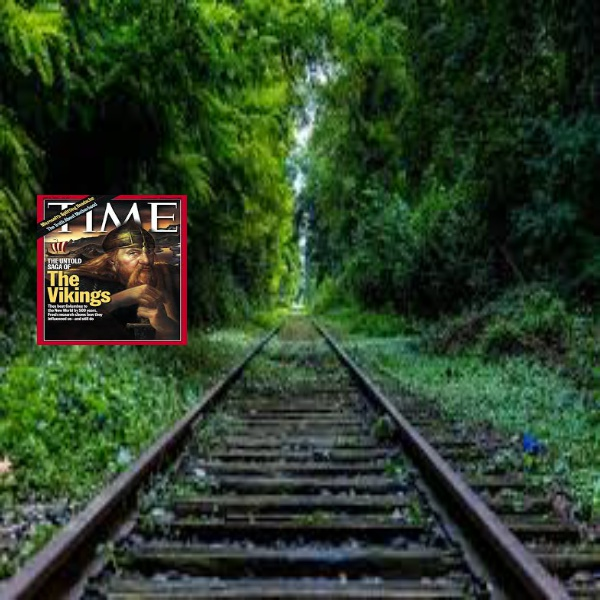time_cover: (33, 178, 195, 346)
